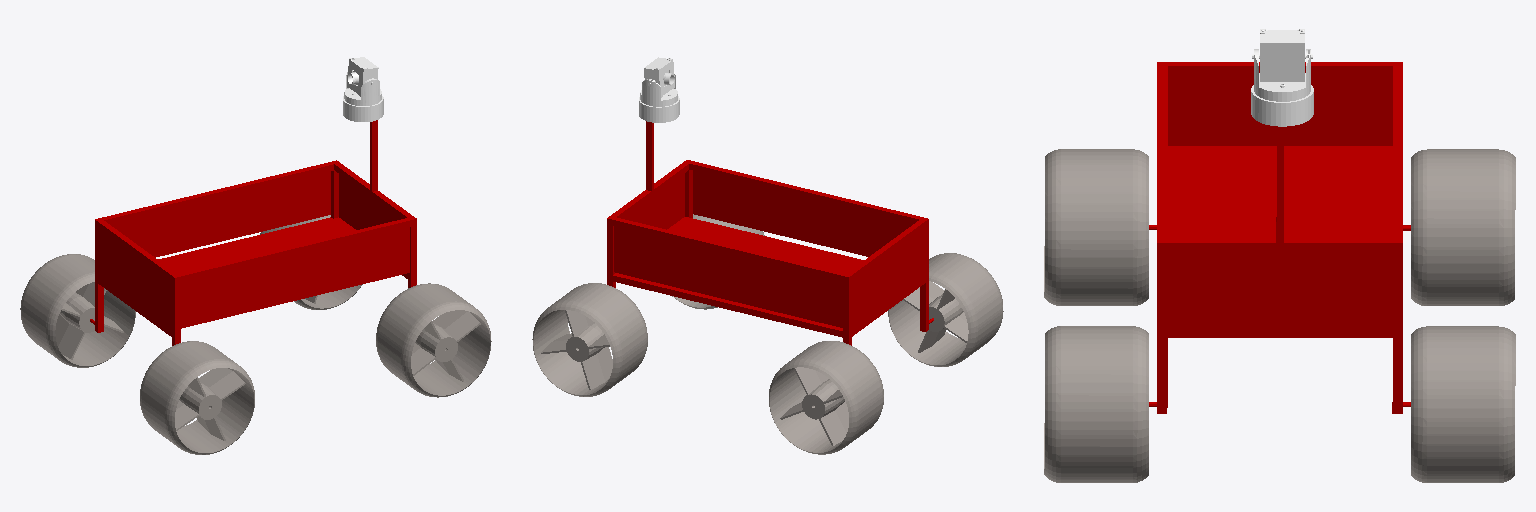
URDF robot description (URDFtestwithcam):
<?xml version="1.0" encoding="utf-8"?>
<!-- This URDF was automatically created by SolidWorks to URDF Exporter! Originally created by [author] ([email redacted])
     Commit Version: 1.4.4-24-g24328f6  Build Version: 1.5.7084.36479
     For more information, please see http://wiki.ros.org/sw_urdf_exporter -->
<robot xmlns:xacro="http://www.ros.org/wiki/xacro" name="URDFtestwithcam">

  <material name="blue">
    <color rgba="0 0 0.8 1"/>
  </material>

  <material name="white">
    <color rgba="1 1 1 1"/>
  </material>

  <material name="red">
    <color rgba="0.8 0 0 1"/>
  </material>

	<link name="base_link"></link>

  <link name="base">
    <inertial>
      <origin
        xyz="0.0052811 0.064297 -0.0088091"
        rpy="0 0 0" />
      <mass
        value="13.77" />
      <inertia
        ixx="0.14162"
        ixy="-7.334E-17"
        ixz="3.7952E-11"
        iyy="0.63119"
        iyz="0.00036178"
        izz="0.53062" />
    </inertial>
    <visual>
      <origin
        xyz="0 0 0"
        rpy="0 0 0" />
      <geometry>
        <mesh
          filename="package://URDFtestwithcam/meshes/base.STL" />
      </geometry>
      <material name="red"/>
    </visual>
    <collision>
      <origin
        xyz="0 0 0"
        rpy="0 0 0" />
      <geometry>
        <mesh
          filename="package://URDFtestwithcam/meshes/base.STL" />
      </geometry>
    </collision>
  </link>

  <joint name="dummy_to_base" type="fixed">
  	<origin xyz="0 0 0" rpy="1.57 0 0"/>
  	<parent link="base_link"/>
  	<child link="base"/>
  </joint>

  <link name="one">
    <inertial>
      <origin
        xyz="0 -5.55111512312578E-17 -6.93889390390723E-17"
        rpy="0 0 0" />
      <mass
        value="18.522197740641" />
      <inertia
        ixx="0.175515725875798"
        ixy="-3.73056609646052E-17"
        ixz="-7.97826013903642E-17"
        iyy="0.175515725875798"
        iyz="3.93262024862155E-17"
        izz="0.264143297899433" />
    </inertial>
    <visual>
      <origin
        xyz="0 0 0"
        rpy="0 0 0" />
      <geometry>
        <mesh
          filename="package://URDFtestwithcam/meshes/one.STL" />
      </geometry>
      <material
        name="">
        <color
          rgba="0.686274509803922 0.658823529411765 0.63921568627451 1" />
      </material>
    </visual>
    <collision>
      <origin
        xyz="0 0 0"
        rpy="0 0 0" />
      <geometry>
        <mesh
          filename="package://URDFtestwithcam/meshes/one.STL" />
      </geometry>
    </collision>
  </link>

  <joint name="revone" type="continuous">
    <origin
      xyz="-0.4 -0.155 -0.35"
      rpy="0 0 0" />
    <parent
      link="base" />
    <child
      link="one" />
    <axis
      xyz="0 0 -1" />
    <limit
      effort="1"
      velocity="0.5" />
    <safety_controller
      k_velocity="0" />
  </joint>

  <transmission name="revone_trans">
    <type>transmission_interface/SimpleTransmission</type>
    <actuator name="$revone_swivel_motor">
      <mechanicalReduction>1</mechanicalReduction>
    </actuator>
    <joint name="revone">
      <hardwareInterface>hardware_interface/PositionJointInterface</hardwareInterface>
    </joint>
  </transmission>

  <link name="two">
    <inertial>
      <origin
        xyz="0 1.66533453693773E-16 0"
        rpy="0 0 0" />
      <mass
        value="18.522197740641" />
      <inertia
        ixx="0.175515725875798"
        ixy="1.36341728909766E-17"
        ixz="-1.84075661983385E-17"
        iyy="0.175515725875798"
        iyz="4.08047204801776E-17"
        izz="0.264143297899433" />
    </inertial>
    <visual>
      <origin
        xyz="0 0 0"
        rpy="0 0 0" />
      <geometry>
        <mesh
          filename="package://URDFtestwithcam/meshes/two.STL" />
      </geometry>
      <material
        name="">
        <color
          rgba="0.686274509803922 0.658823529411765 0.63921568627451 1" />
      </material>
    </visual>
    <collision>
      <origin
        xyz="0 0 0"
        rpy="0 0 0" />
      <geometry>
        <mesh
          filename="package://URDFtestwithcam/meshes/two.STL" />
      </geometry>
    </collision>
  </link>

  <joint name="revtwo" type="continuous">
    <origin
      xyz="-0.4 -0.155 0.35"
      rpy="0 0 0" />
    <parent
      link="base" />
    <child
      link="two" />
    <axis
      xyz="0 0 1" />
    <limit
      effort="1"
      velocity="0.5" />
    <safety_controller
      k_velocity="0" />
  </joint>

  <transmission name="revtwo_trans">
    <type>transmission_interface/SimpleTransmission</type>
    <actuator name="$revone_swivel_motor">
      <mechanicalReduction>1</mechanicalReduction>
    </actuator>
    <joint name="revtwo">
      <hardwareInterface>hardware_interface/PositionJointInterface</hardwareInterface>
    </joint>
  </transmission>

  <link name="three">
    <inertial>
      <origin
        xyz="0 0 0"
        rpy="0 0 0" />
      <mass
        value="18.522197740641" />
      <inertia
        ixx="0.175515725875798"
        ixy="-2.20513583343706E-17"
        ixz="-6.6914147002302E-18"
        iyy="0.175515725875798"
        iyz="2.15396436166859E-17"
        izz="0.264143297899434" />
    </inertial>
    <visual>
      <origin
        xyz="0 0 0"
        rpy="0 0 0" />
      <geometry>
        <mesh
          filename="package://URDFtestwithcam/meshes/three.STL" />
      </geometry>
      <material
        name="">
        <color
          rgba="0.686274509803922 0.658823529411765 0.63921568627451 1" />
      </material>
    </visual>
    <collision>
      <origin
        xyz="0 0 0"
        rpy="0 0 0" />
      <geometry>
        <mesh
          filename="package://URDFtestwithcam/meshes/three.STL" />
      </geometry>
    </collision>
  </link>

  <joint name="revthree" type="continuous">
    <origin
      xyz="0.4 -0.155 0.35"
      rpy="0 0 0" />
    <parent
      link="base" />
    <child
      link="three" />
    <axis
      xyz="0 0 1" />
    <limit
      effort="1"
      velocity="0.5" />
    <safety_controller
      k_velocity="0" />
  </joint>

  <transmission name="revthree_trans">
    <type>transmission_interface/SimpleTransmission</type>
    <actuator name="$revone_swivel_motor">
      <mechanicalReduction>1</mechanicalReduction>
    </actuator>
    <joint name="revthree">
      <hardwareInterface>hardware_interface/PositionJointInterface</hardwareInterface>
    </joint>
  </transmission>

  <link name="four">
    <inertial>
      <origin
        xyz="-5.55111512312578E-17 -5.55111512312578E-17 1.38777878078145E-17"
        rpy="0 0 0" />
      <mass
        value="18.522197740641" />
      <inertia
        ixx="0.175515725875798"
        ixy="-3.94805912055889E-17"
        ixz="-1.61587524041896E-17"
        iyy="0.175515725875798"
        iyz="1.26567879060009E-17"
        izz="0.264143297899434" />
    </inertial>
    <visual>
      <origin
        xyz="0 0 0"
        rpy="0 0 0" />
      <geometry>
        <mesh
          filename="package://URDFtestwithcam/meshes/four.STL" />
      </geometry>
      <material
        name="">
        <color
          rgba="0.686274509803922 0.658823529411765 0.63921568627451 1" />
      </material>
    </visual>
    <collision>
      <origin
        xyz="0 0 0"
        rpy="0 0 0" />
      <geometry>
        <mesh
          filename="package://URDFtestwithcam/meshes/four.STL" />
      </geometry>
    </collision>
  </link>

  <joint name="revfour" type="continuous">
    <origin
      xyz="0.4 -0.155 -0.35"
      rpy="0 0 0" />
    <parent
      link="base" />
    <child
      link="four" />
    <axis
      xyz="0 0 -1" />
    <limit
      effort="1"
      velocity="0.5" />
    <safety_controller
      k_velocity="0" />
  </joint>

  <transmission name="revfour_trans">
    <type>transmission_interface/SimpleTransmission</type>
    <actuator name="$revone_swivel_motor">
      <mechanicalReduction>1</mechanicalReduction>
    </actuator>
    <joint name="revfour">
      <hardwareInterface>hardware_interface/PositionJointInterface</hardwareInterface>
    </joint>
  </transmission>

  <link name="five">
    <inertial>
      <origin
        xyz="0 0 0"
        rpy="0 0 0" />
      <mass
        value="0" />
      <inertia
        ixx="0"
        ixy="0"
        ixz="0"
        iyy="0"
        iyz="0"
        izz="0" />
    </inertial>
    <visual>
      <origin
        xyz="0 0 0"
        rpy="0 0 0" />
      <geometry>
        <mesh
          filename="package://URDFtestwithcam/meshes/five.STL" />
      </geometry>
      <material
        name="">
        <color
          rgba="1 1 1 1" />
      </material>
    </visual>
    <collision>
      <origin
        xyz="0 0 0"
        rpy="0 0 0" />
      <geometry>
        <mesh
          filename="package://URDFtestwithcam/meshes/five.STL" />
      </geometry>
    </collision>
  </link>

  <joint name="cam" type="fixed">
    <origin
      xyz="0.40396 0.63028 -0.033851"
      rpy="0 0 -0.081009" />
    <parent
      link="base" />
    <child
      link="five" />
    <axis
      xyz="0 0 0" />
    <safety_controller
      k_velocity="0" />
  </joint>

	<gazebo>
		<plugin name="gazebo_ros_control" filename="libgazebo_ros_control.so">
			<robotNamespace>/</robotNamespace>
		</plugin>
	</gazebo>

</robot>

--- What the picture shows (computed from the rendered views, not written in the file) ---
Views: 3 orthographic renders of the robot side by side, from view 1: azimuth 30°, elevation 25°; view 2: azimuth 150°, elevation 25°; view 3: azimuth 270°, elevation 25°.
Robot: URDFtestwithcam — 7 links, 6 joints (4 continuous, 2 fixed); root link base_link; default pose: all joints at 0.
Links seen in each view (by area): view 1: base, three, two, one, five, four; view 2: base, one, four, two, five; view 3: base, three, two, one, four, five.
Link boxes in pixels (<box>): base: <box>90,120,416,345</box>; three: <box>376,283,491,397</box>; two: <box>140,341,254,454</box>; one: <box>20,254,135,367</box>; five: <box>343,57,383,121</box>; four: <box>260,215,362,309</box>; base: <box>607,121,933,345</box>; one: <box>769,341,883,454</box>; four: <box>532,283,647,396</box>; two: <box>888,253,1003,366</box>; five: <box>639,57,679,122</box>; base: <box>1149,62,1410,413</box>; three: <box>1044,326,1148,482</box>; two: <box>1044,149,1148,305</box>; one: <box>1411,149,1515,305</box>; four: <box>1411,326,1515,482</box>; five: <box>1251,29,1313,126</box>.
Bounding box of the posed robot: 1.1 × 0.9002 × 0.9181 m (x, y, z).
6 mesh visuals loaded from 6 distinct referenced files (6 binary STL).